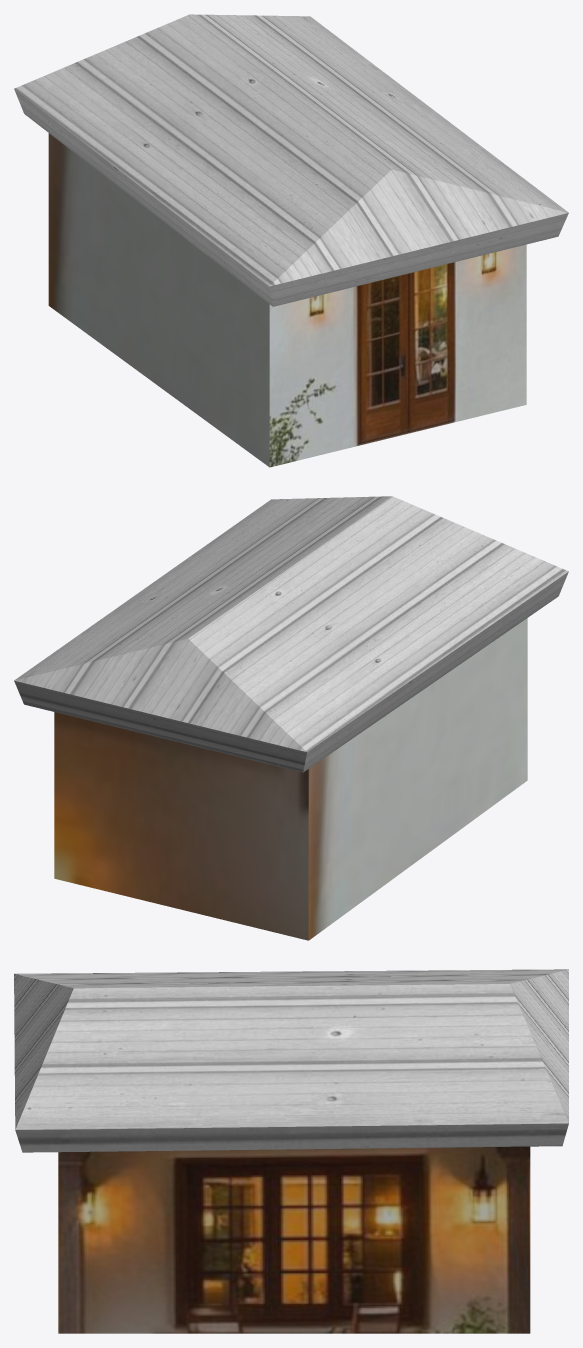
The model's file is Omah 2.fbx.
3 views of the same model, one above another, from view 1: azimuth 30°, elevation 25°; view 2: azimuth 150°, elevation 25°; view 3: azimuth 270°, elevation 25° (orthographic). The views are drawn at different scales.
Visible parts, largest first — view 1: Atap.003, Cube.001; view 2: Atap.003, Cube.001; view 3: Atap.003, Cube.001.
Part boxes in pixels (bbox=[...]): Atap.003: bbox=[14, 14, 568, 306]; Cube.001: bbox=[48, 133, 526, 467]; Atap.003: bbox=[14, 496, 568, 772]; Cube.001: bbox=[54, 618, 527, 940]; Atap.003: bbox=[14, 969, 568, 1152]; Cube.001: bbox=[58, 1146, 530, 1333].
Size of the model in its own units: 717 by 606 by 1073.
